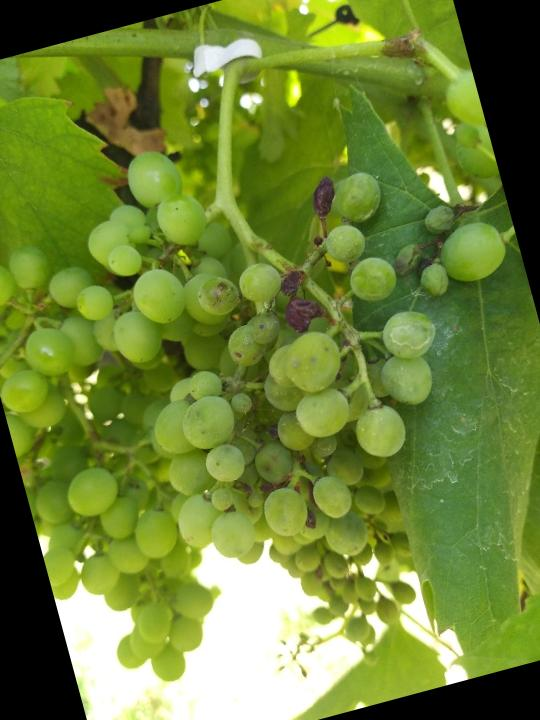grape: (42, 88, 490, 610)
